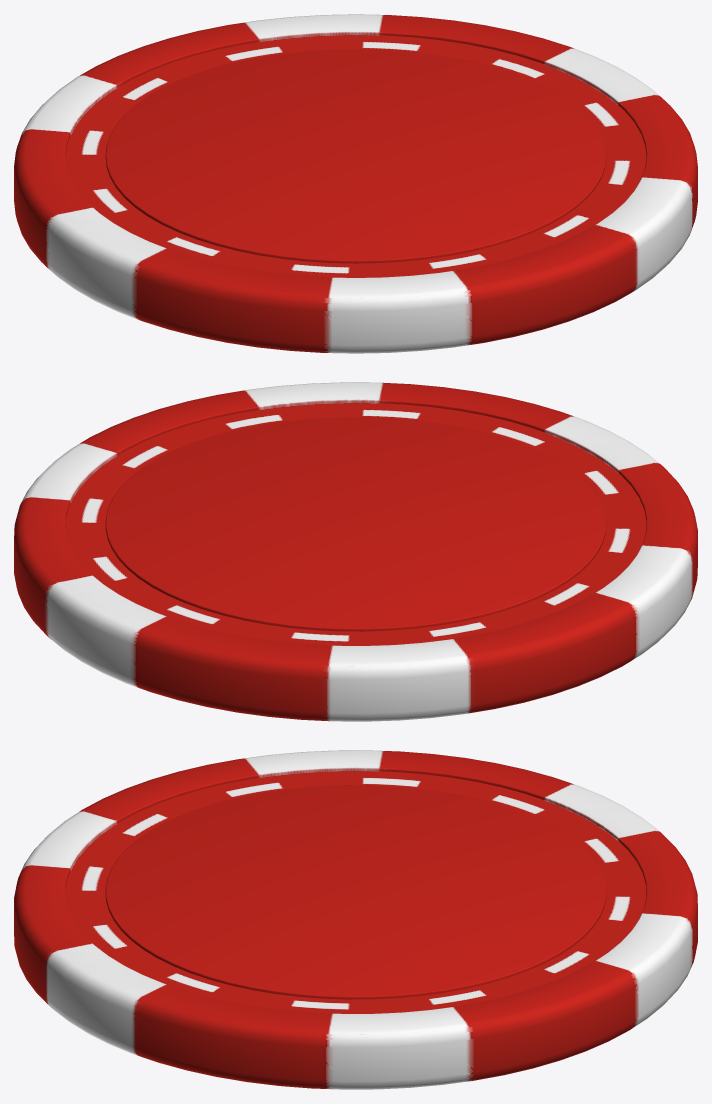
The model's file is red.glb.
The picture shows the model from 3 angles, top to bottom: view 1: azimuth 30°, elevation 25°; view 2: azimuth 150°, elevation 25°; view 3: azimuth 270°, elevation 25°; orthographic projection.
Parts seen in each view (by area): view 1: chips.456_chips_red_bake_0; view 2: chips.456_chips_red_bake_0; view 3: chips.456_chips_red_bake_0.
Part boxes in pixels (x1,y1,x2,y2): chips.456_chips_red_bake_0: (14,14,697,353); chips.456_chips_red_bake_0: (14,382,697,721); chips.456_chips_red_bake_0: (14,750,697,1089).
Bounding box in the file's own units: 2 × 0.1882 × 2.
Materials: 1 (1 with a texture image).
